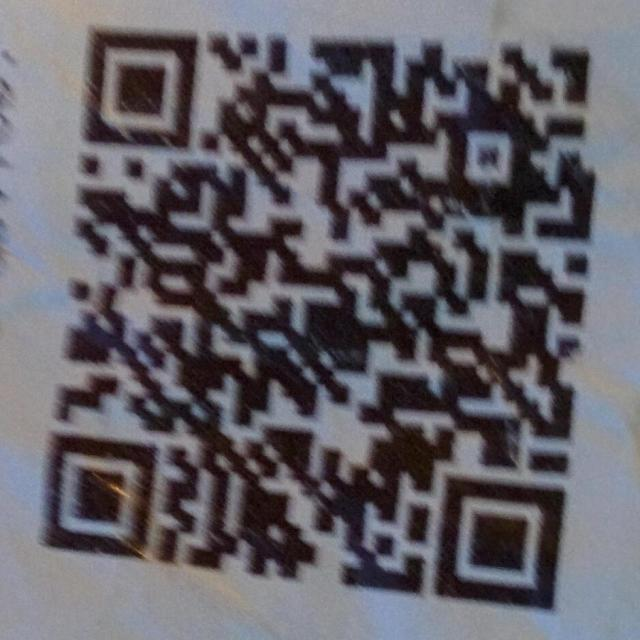QR_CODE: (38, 24, 600, 615)
